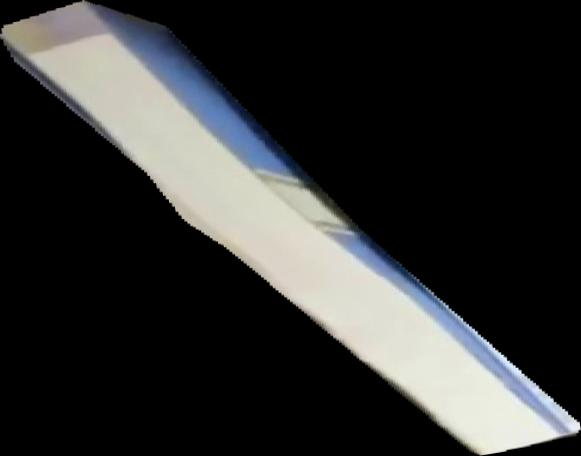backward: (1, 1, 581, 456)
